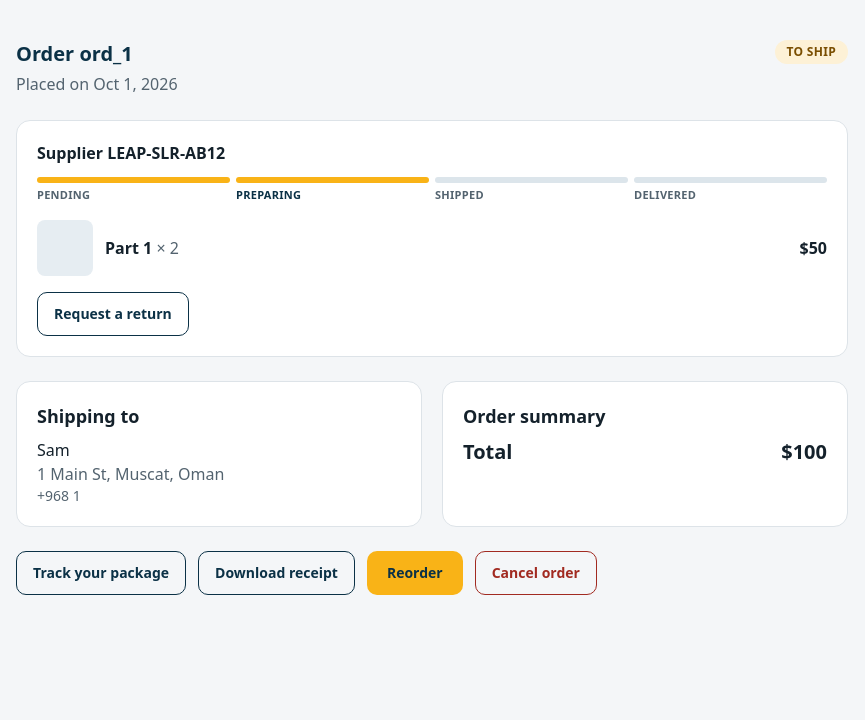
Test: order detail: returns, address, receipt, reorder › CRITICAL: a request the server refuses (the return window passed) shows the server's reason and keeps the form
Expected: the heading "Order ord_1" is shown, [16, 40, 133, 67]
Click the button "Request a return": (113, 314) [37, 292, 189, 336]
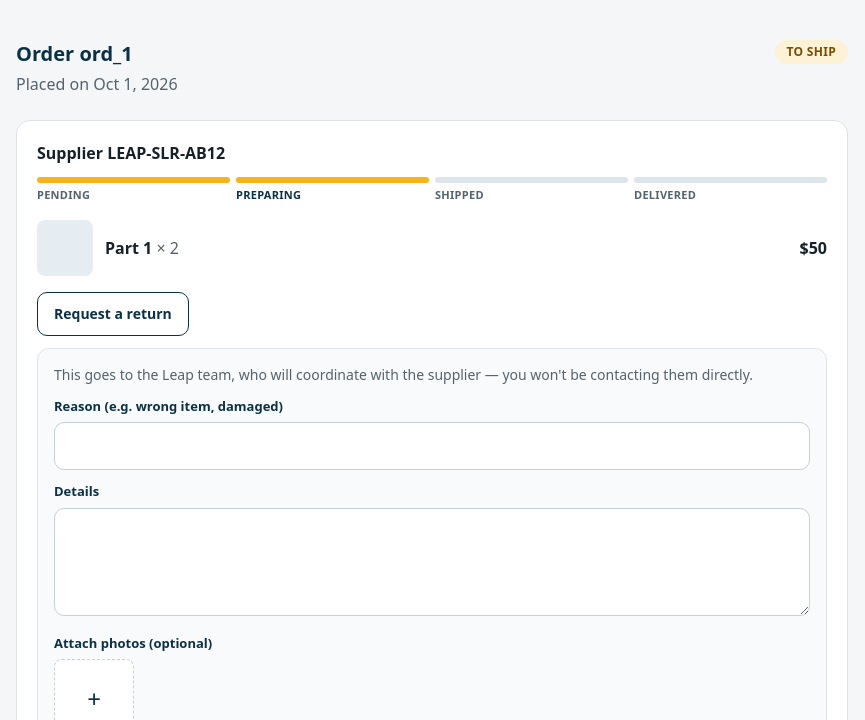
In the field labelled "Reason (e.g. wrong item, damaged)": (432, 446) [54, 422, 810, 470], type "Late"
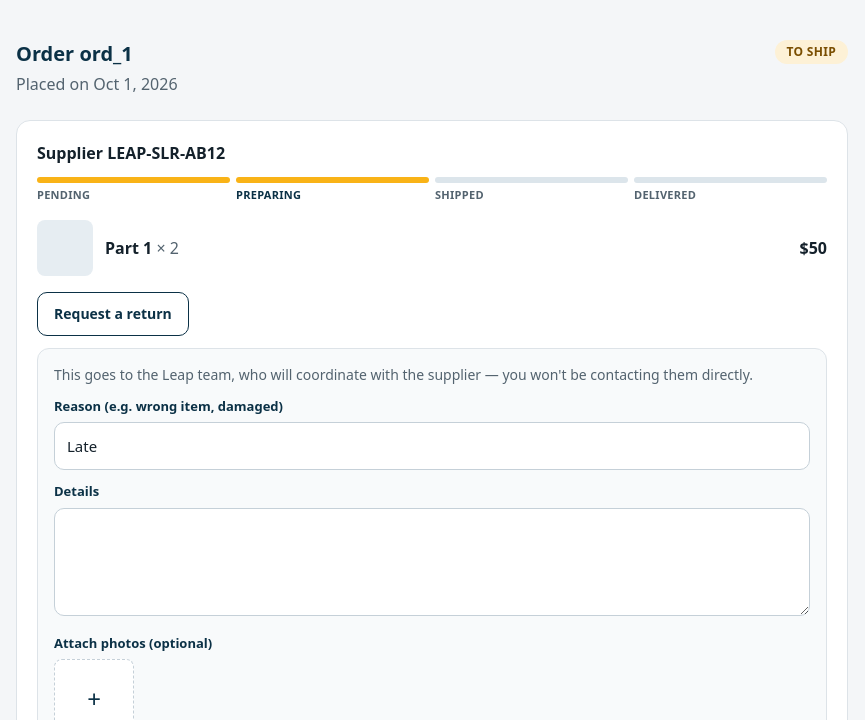
In the text box labelled "Details": (432, 562) [54, 508, 810, 616], type "Too late"
(page scrolled)
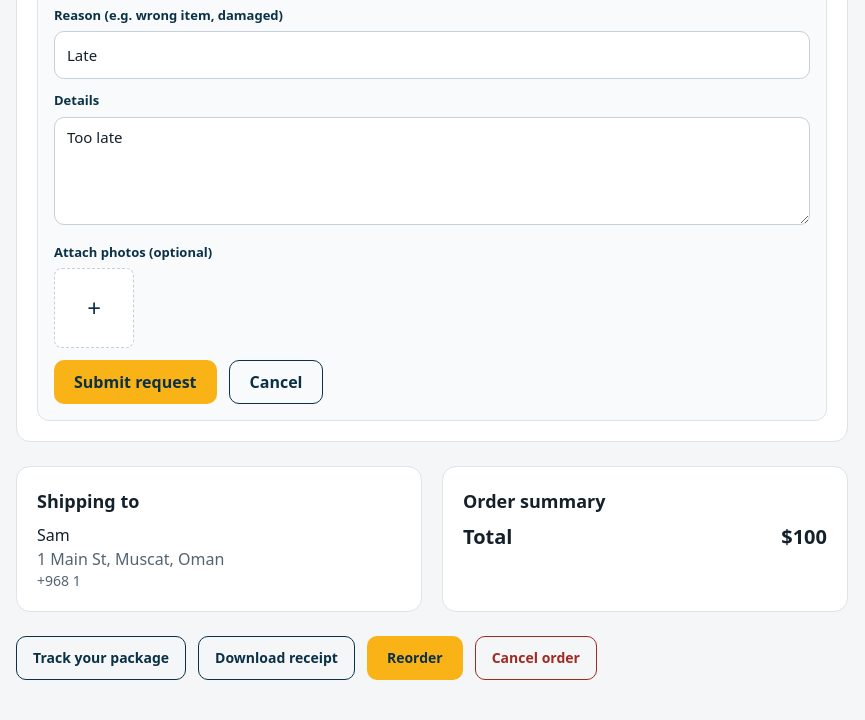
Click the button "Submit request": (135, 382) [54, 360, 216, 404]
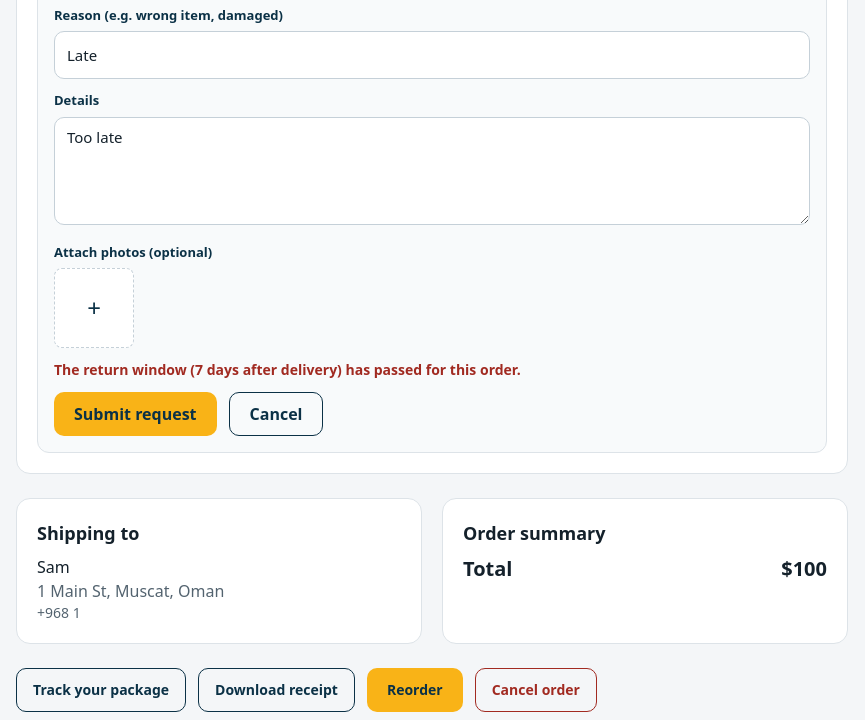
Now the message shows "The return window (7 days after delivery) has passed", box [54, 360, 521, 379]
